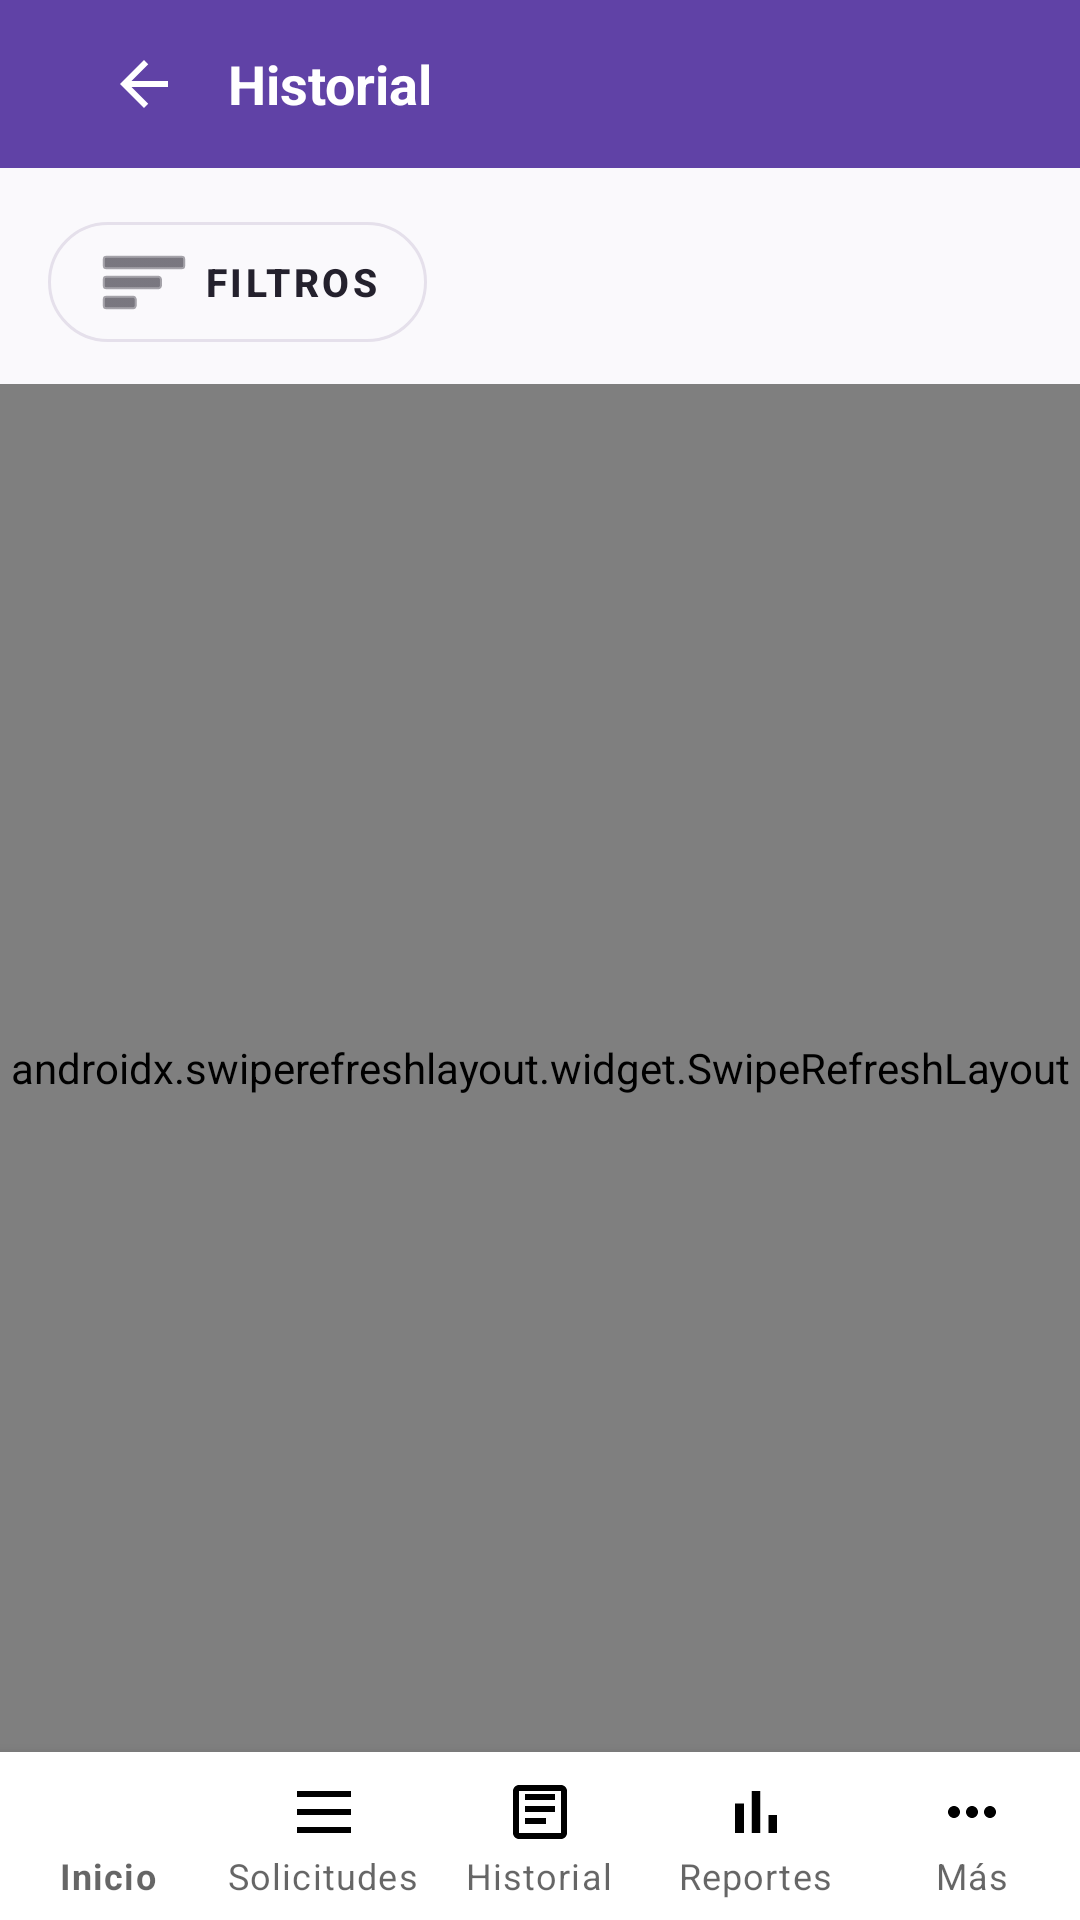

Icon bounding boxes for this 1080×1920 phone screenshot, format Rect(x1, y1, x2, y2):
Volver: Rect(120, 60, 168, 108)
